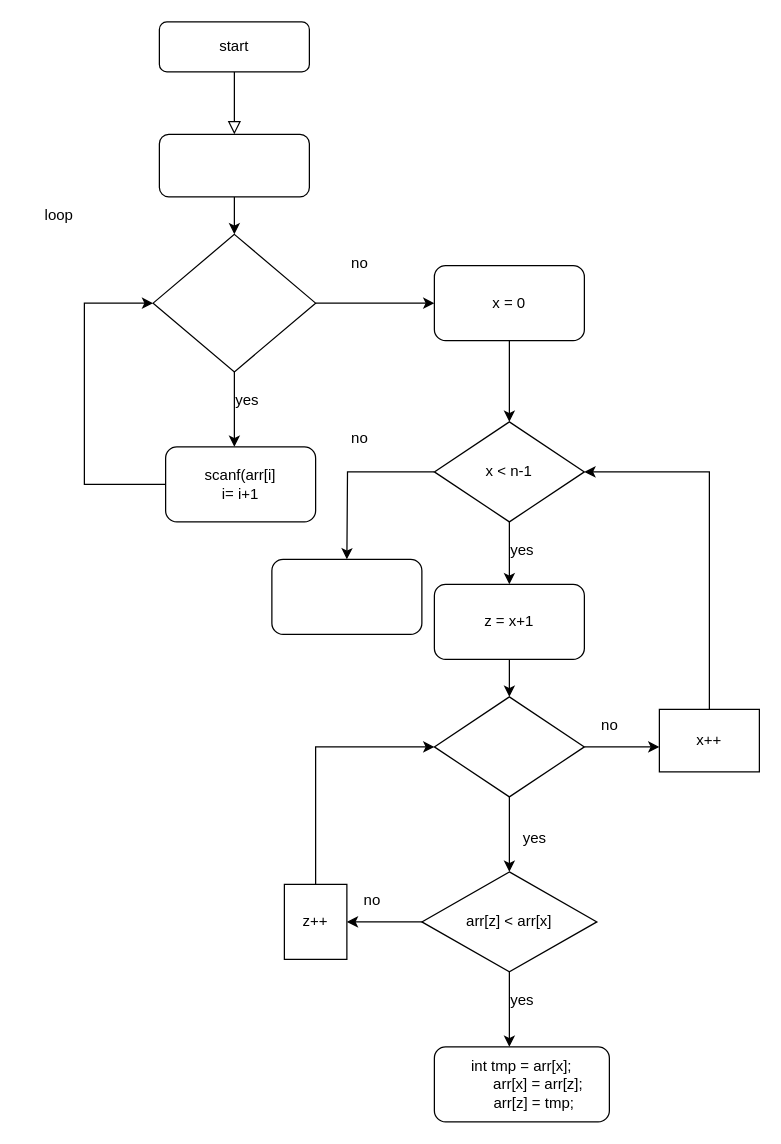
Some shapes in this 781 by 1144 pixel diagram are drawn without their labels. Each missing label, with the centre of its shape:
i < n: pixel 234 302
read: pixel 346 596
scanf("%d", n) i = 0: pixel 233 165
z < n: pixel 508 746
